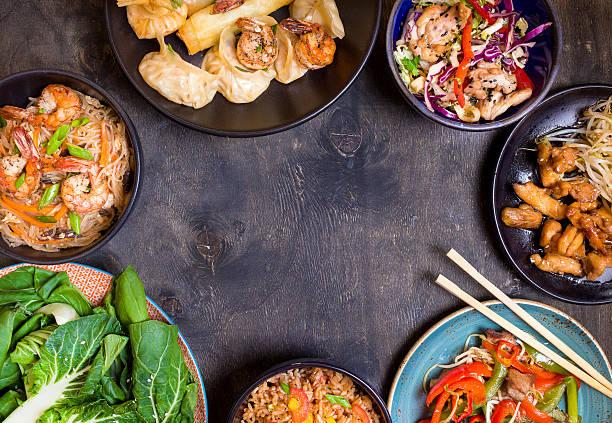Braised Crucian Carp: (108, 1, 373, 138), (378, 299, 612, 423), (488, 81, 612, 306), (0, 69, 141, 262), (386, 1, 555, 132)
